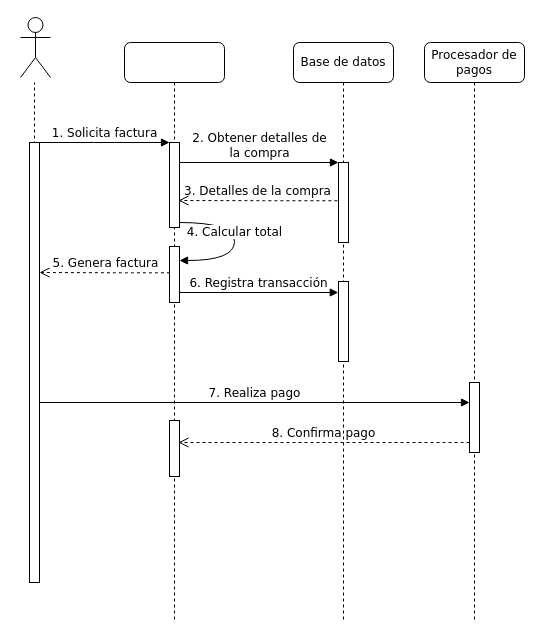
The diagram is 542 pixels wide and 640 high, and some of its shapes have lost their labels. Each missing label, with the centre of its shape:
Cliente: point (35, 47)
Sistema de facturación: point (174, 332)
